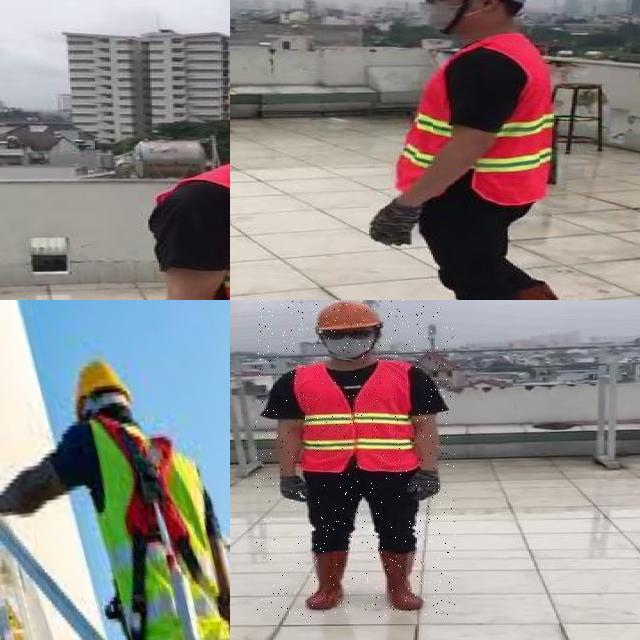Harness: (90, 415, 211, 640)
boots: (376, 547, 428, 613), (305, 549, 351, 610)
face_mask: (412, 0, 476, 36)
hand_glove: (369, 203, 421, 246)
head_helmet: (308, 300, 382, 331)
person: (359, 0, 606, 300), (255, 300, 455, 617), (138, 44, 230, 300)
vest: (394, 35, 550, 205), (296, 359, 417, 472)
